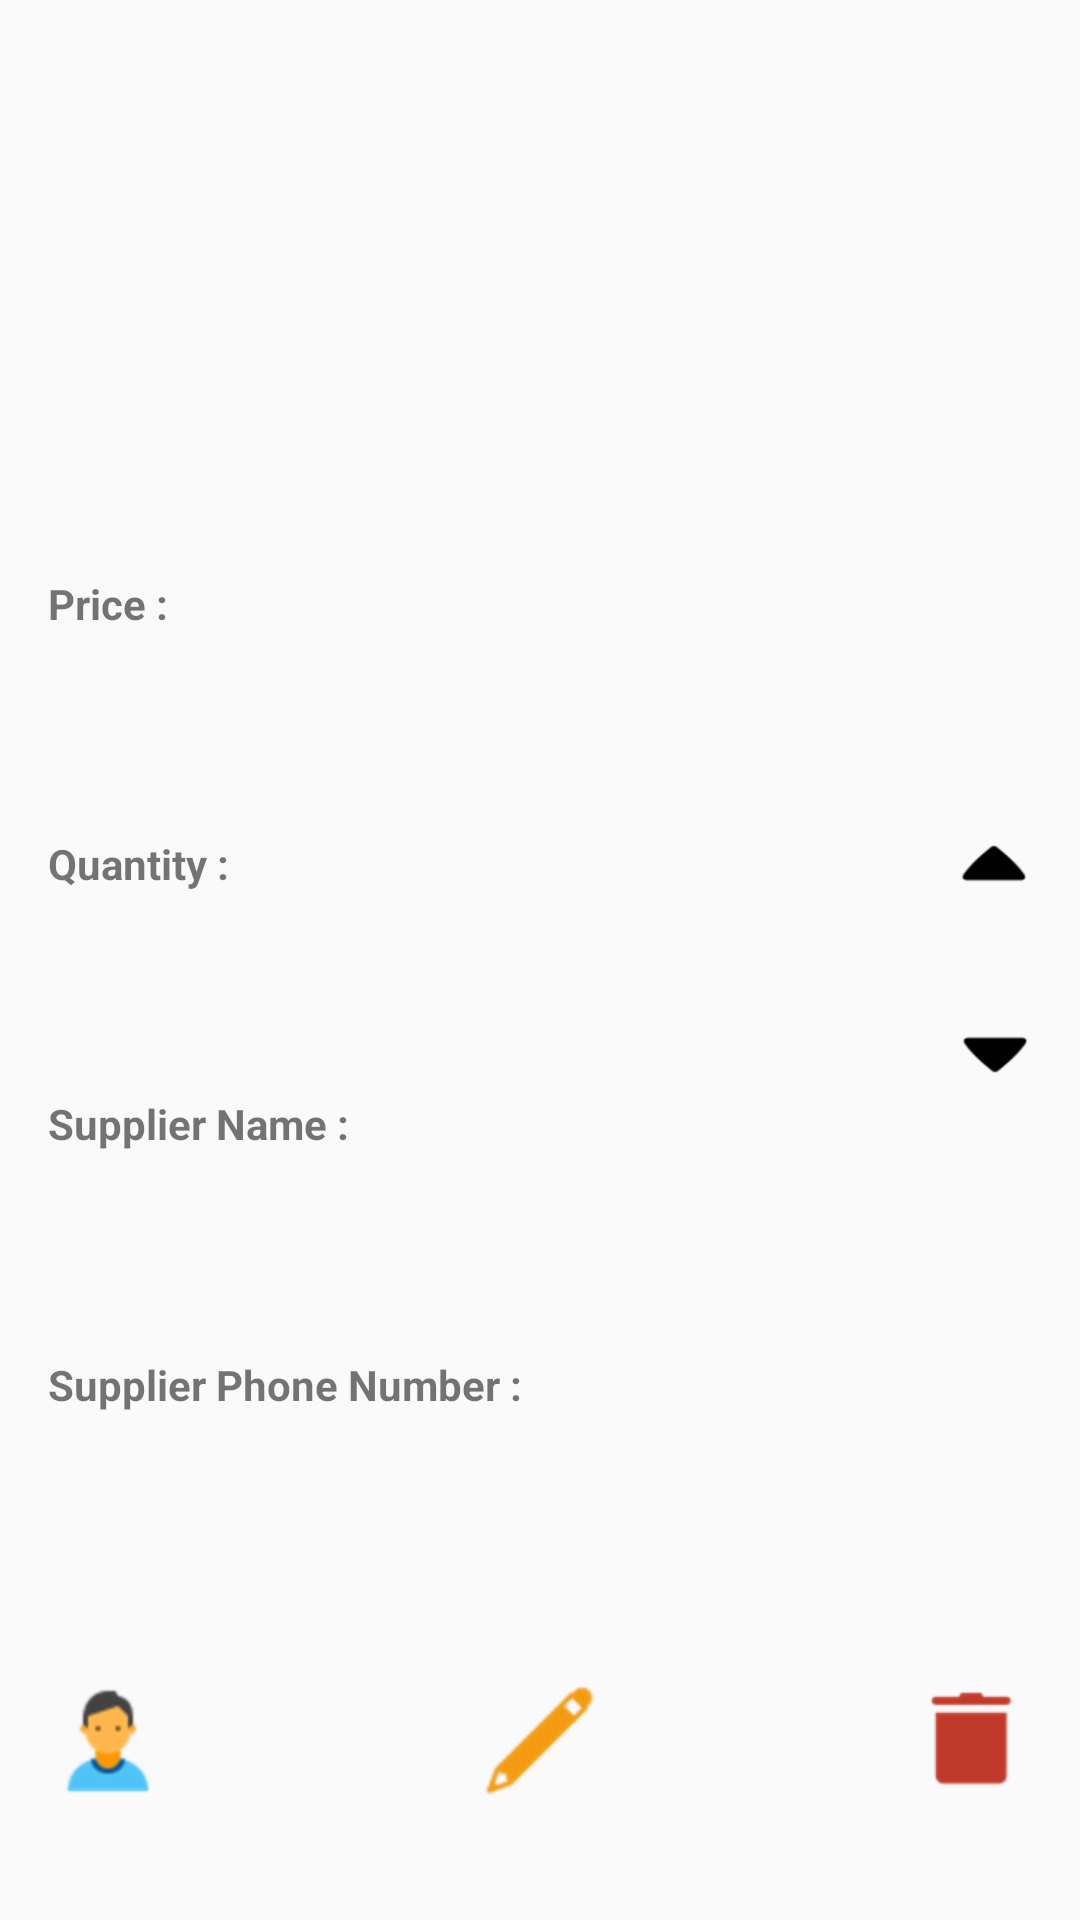

Named icons in this screenshot (1080x1920) and their centers, [x,y]:
delete: [971,1738]
down: [995,1055]
edit: [540,1741]
